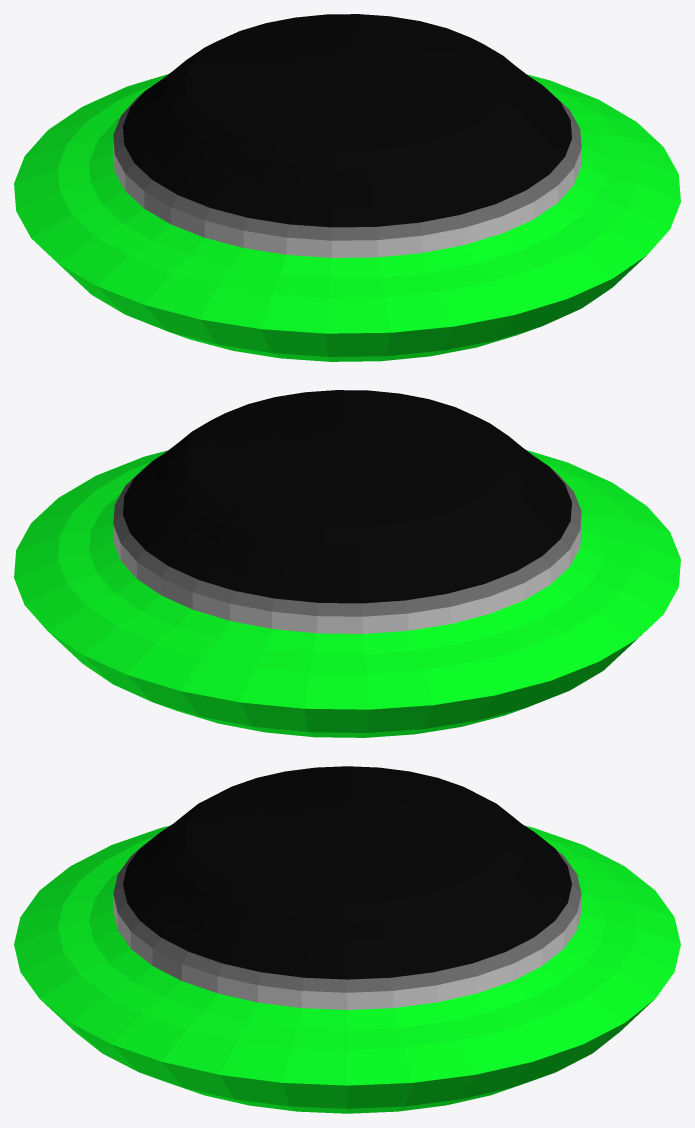
File: nave.glb
3 renders of one model, top to bottom at view 1: azimuth 30°, elevation 25°; view 2: azimuth 150°, elevation 25°; view 3: azimuth 270°, elevation 25°, orthographic.
Parts seen in each view (by area): view 1: Cylinder; view 2: Cylinder; view 3: Cylinder.
Part boxes in pixels (x1=…): Cylinder: x1=14, y1=14, x2=680, y2=361; Cylinder: x1=14, y1=390, x2=680, y2=737; Cylinder: x1=14, y1=766, x2=680, y2=1113.
Size of the model in its own units: 2 by 0.7443 by 2.
